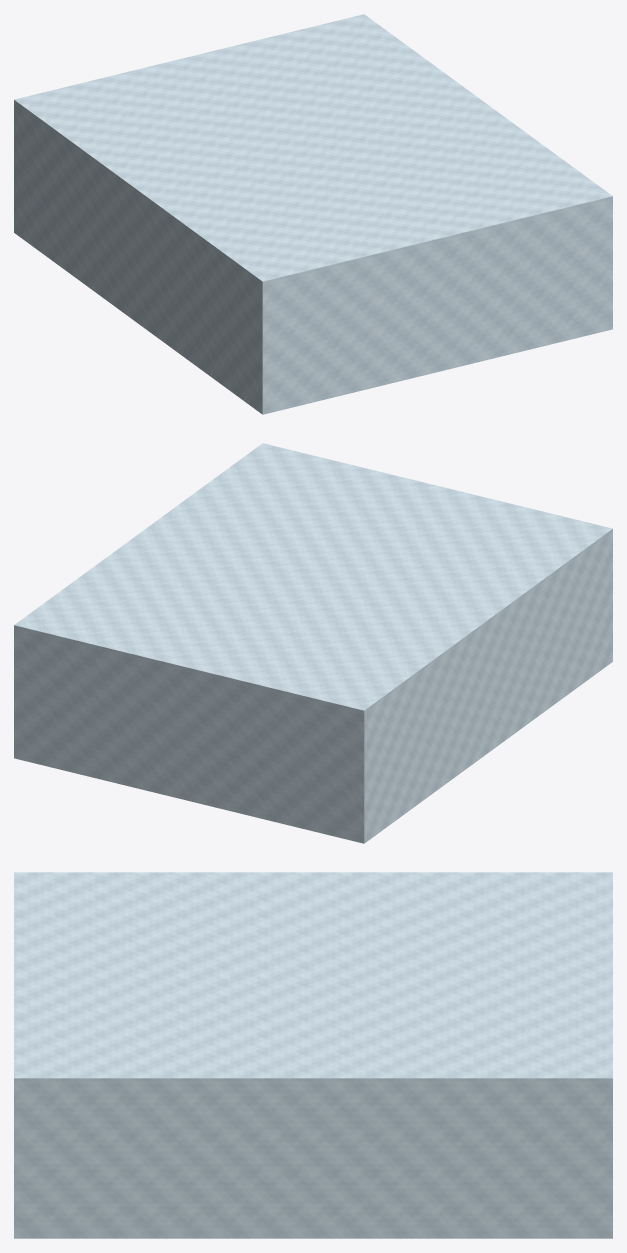
The model's file is SnowForest_Floor.fbx.
3 views of the same model, one above another, from view 1: azimuth 30°, elevation 25°; view 2: azimuth 150°, elevation 25°; view 3: azimuth 270°, elevation 25° (orthographic). The views are drawn at different scales.
Parts seen in each view (by area): view 1: WO_SnowForest_Floor_LOD0; view 2: WO_SnowForest_Floor_LOD0; view 3: WO_SnowForest_Floor_LOD0.
Part boxes in pixels (x1,y1,x2,y2): WO_SnowForest_Floor_LOD0: (14,14,612,414); WO_SnowForest_Floor_LOD0: (14,443,612,843); WO_SnowForest_Floor_LOD0: (14,872,612,1238).
Size of what is drawn, in the model's own units: 6 by 2.18 by 7.38.
